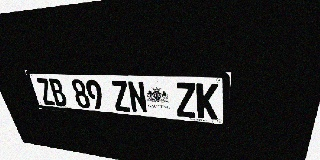8: (70, 79, 91, 109)
9: (84, 80, 106, 110)
B: (47, 78, 68, 107)
K: (196, 83, 218, 120)
N: (127, 81, 148, 114)
Z: (175, 82, 196, 118), (110, 80, 131, 112), (35, 78, 56, 105)
